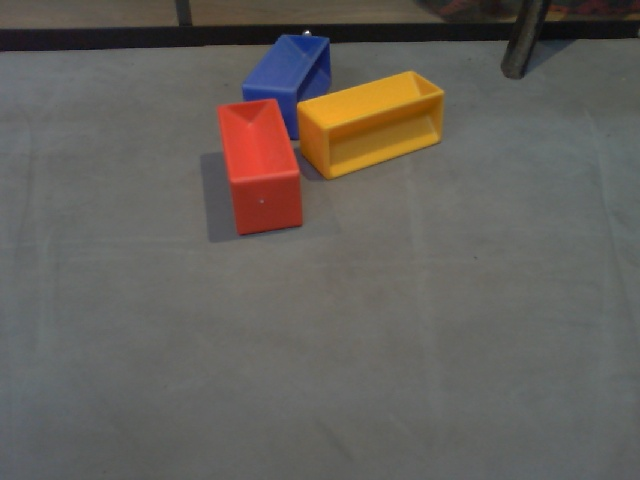BlueSample: (237, 30, 333, 143)
RedSample: (212, 95, 303, 242)
YellowSample: (295, 68, 448, 182)
